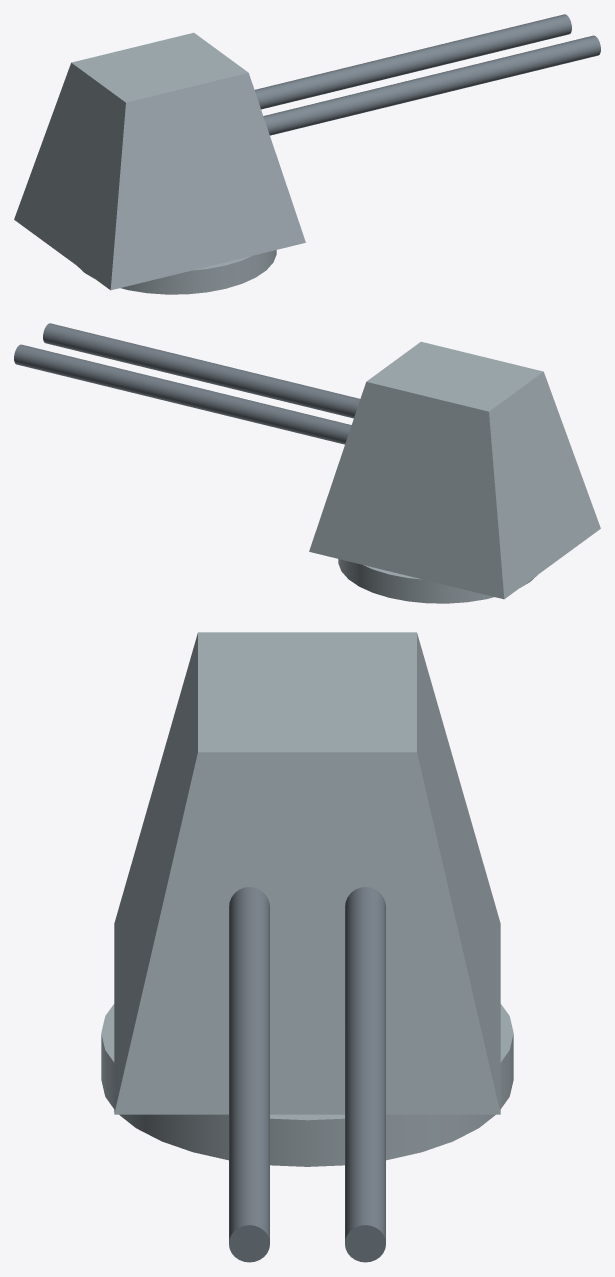
3 views of the same model, one above another, from view 1: azimuth 30°, elevation 25°; view 2: azimuth 150°, elevation 25°; view 3: azimuth 270°, elevation 25° (orthographic). The views are drawn at different scales.
Visible parts, largest first — view 1: cw90_ak130; view 2: cw90_ak130; view 3: cw90_ak130.
Part boxes in pixels (bbox=[...]): cw90_ak130: bbox=[14, 14, 600, 294]; cw90_ak130: bbox=[14, 323, 600, 603]; cw90_ak130: bbox=[101, 632, 513, 1262].
Size of the model in its own units: 10 by 3.44 by 3.44.
